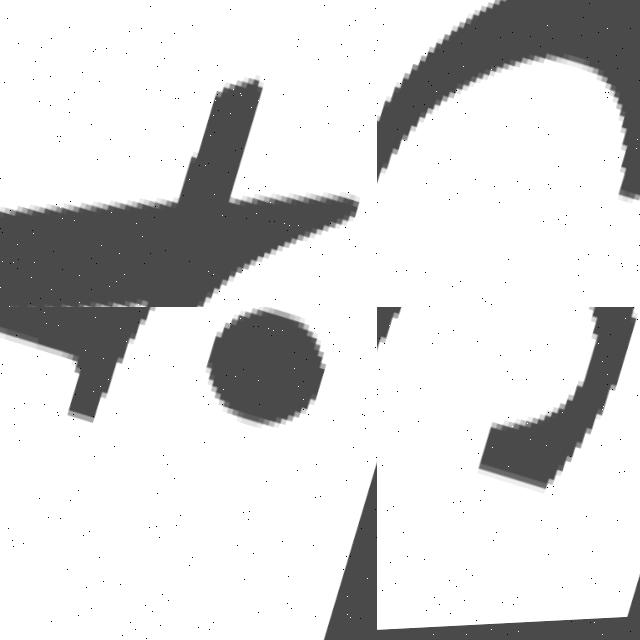3: (377, 0, 640, 307), (377, 307, 640, 549)
I: (0, 307, 377, 524)
T: (0, 0, 377, 307)
